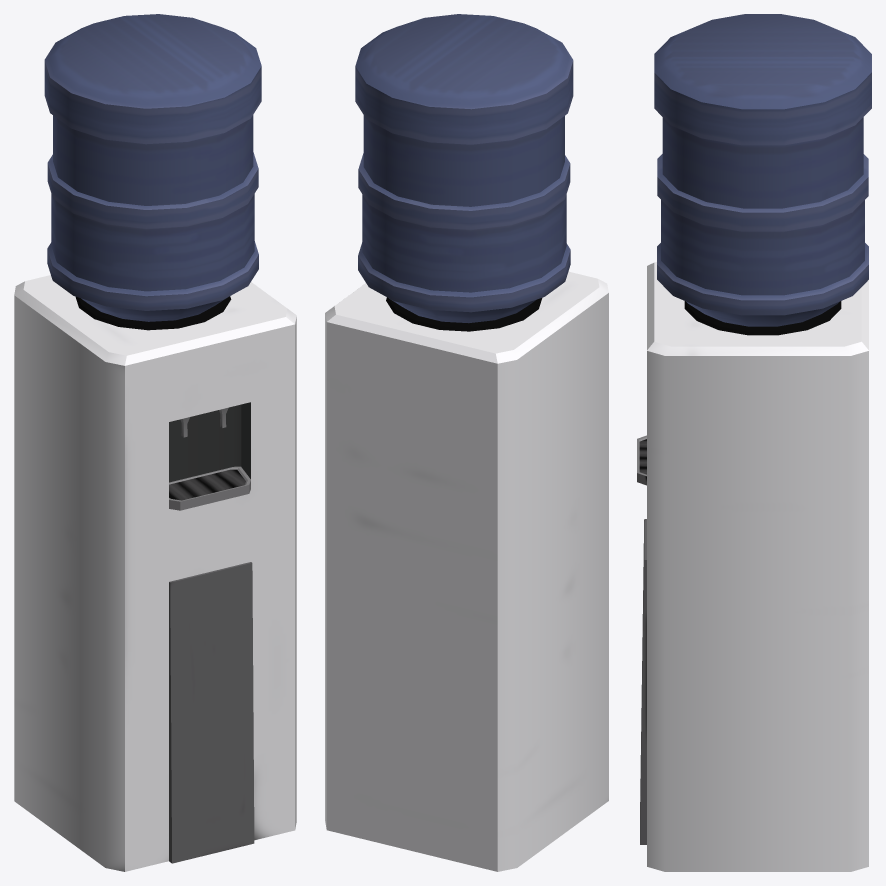
Rendered from WaterDispenser.fbx.
The picture shows the model from 3 angles, left to right: view 1: azimuth 30°, elevation 25°; view 2: azimuth 150°, elevation 25°; view 3: azimuth 270°, elevation 25°; orthographic projection.
Parts seen in each view (by area): view 1: Cube.018; view 2: Cube.018; view 3: Cube.018.
Boxes of the visible parts, bbox=[...] form: Cube.018: bbox=[14, 14, 296, 871]; Cube.018: bbox=[325, 14, 608, 871]; Cube.018: bbox=[637, 14, 871, 871].
Size of the model in its own units: 115 by 436 by 120.
